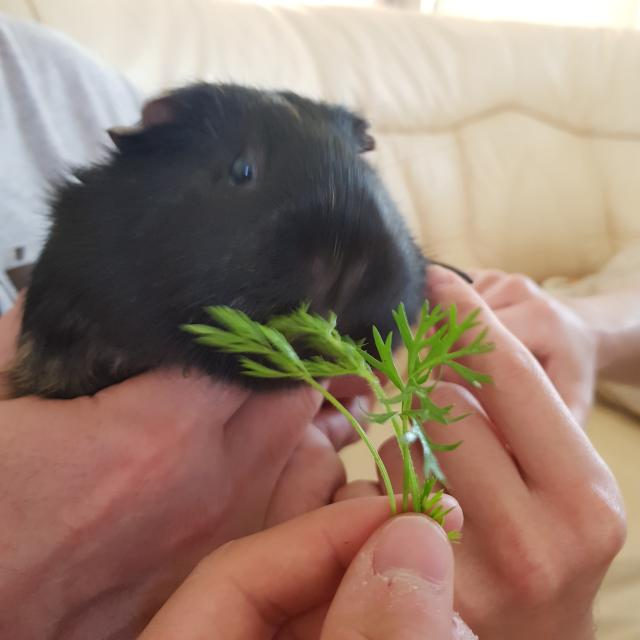guinea pig: (14, 77, 430, 397)
